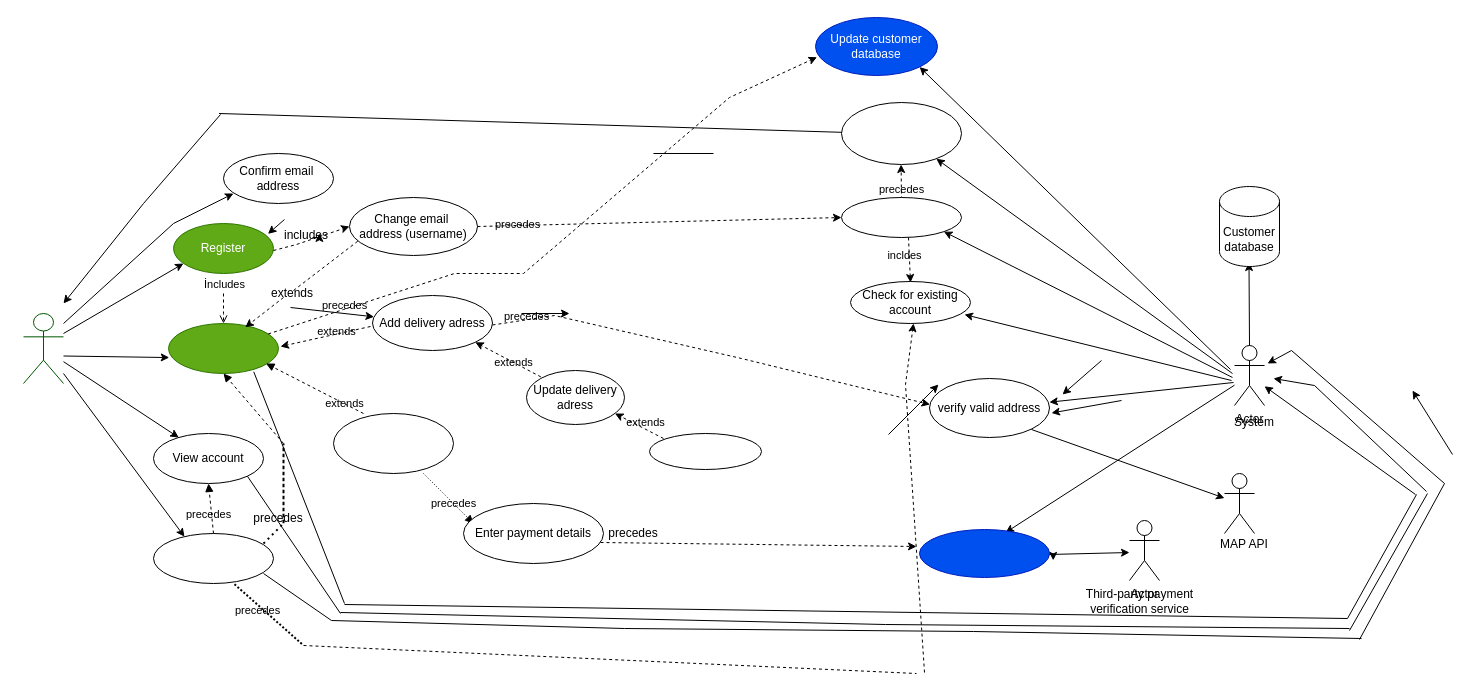
Some shapes in this 1478 by 698 pixel diagram are drawn without their labels. The shapes that lost their labels are listed below. From the top down, each one's centre as x and y in pixels, then its label:
(901,133): send confirmation link via email
(901,217): verify email is unique
(223,348): Update account details
(393,443): Add payment method
(705,451): Delete delivery address
(213,558): Login
(984,553): Verify credit card details
